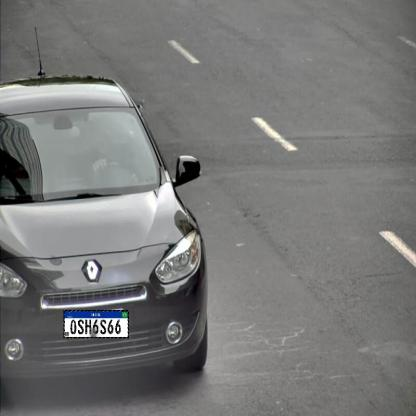PlacaM: (63, 310, 129, 338)
